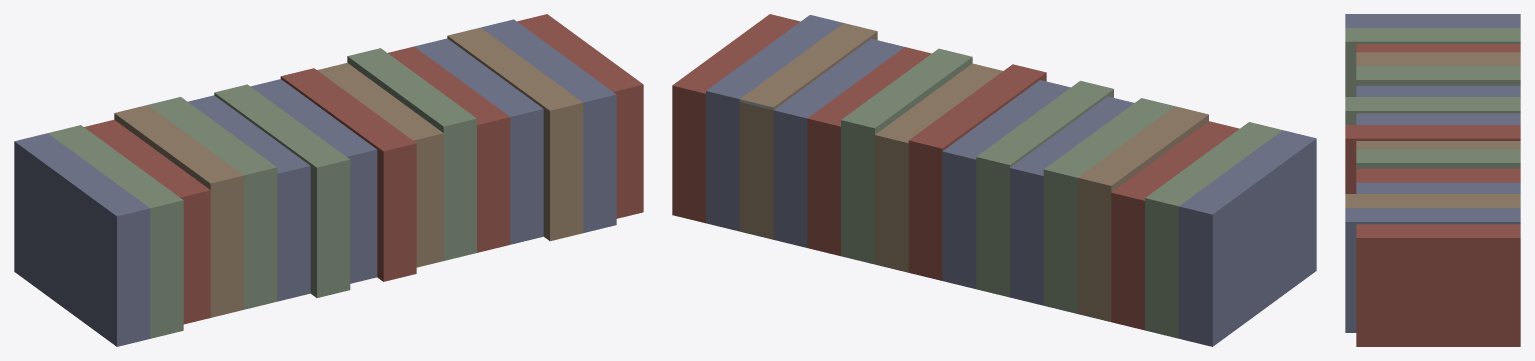
Rendered from book_bunch.fbx.
3 views of the same model, side by side, from view 1: azimuth 30°, elevation 25°; view 2: azimuth 150°, elevation 25°; view 3: azimuth 270°, elevation 25° (orthographic). The views are drawn at different scales.
Visible parts, largest first — view 1: Book_Bunch; view 2: Book_Bunch; view 3: Book_Bunch.
Boxes of the visible parts, box(x1,y1,x2,y2) form: Book_Bunch: box(14, 14, 643, 346); Book_Bunch: box(672, 14, 1316, 346); Book_Bunch: box(1345, 14, 1520, 346).
Size of the model in its own units: 4.69 by 1.13 by 1.56.
